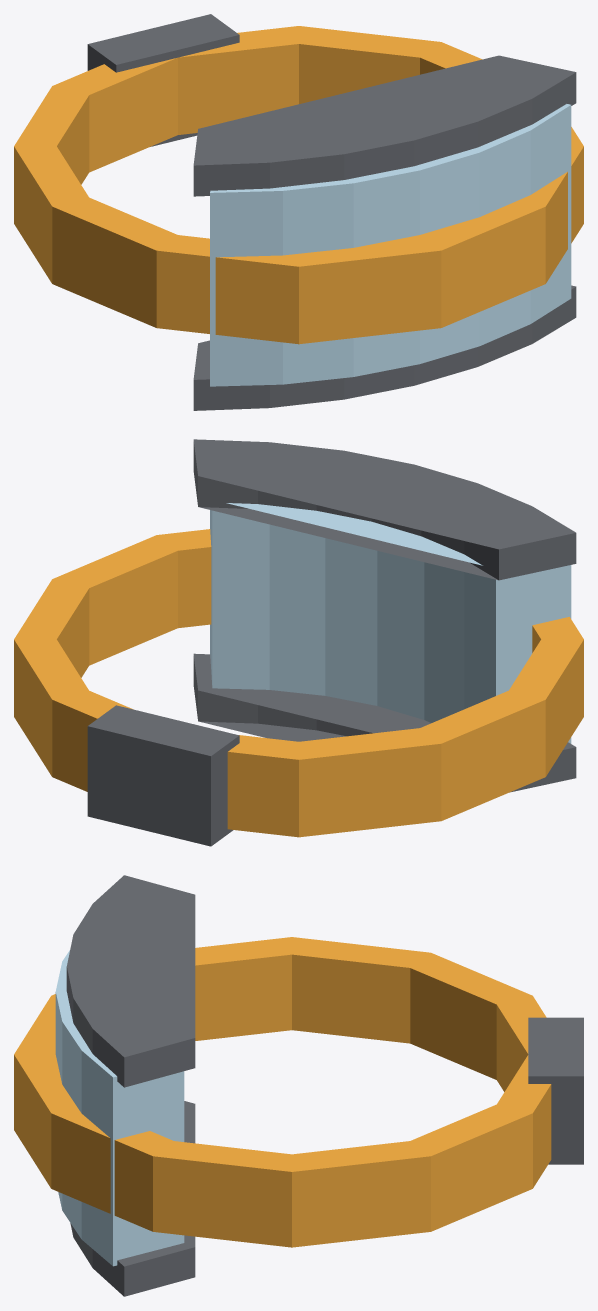
File: ski_goggles_source.glb
The picture shows the model from 3 angles, top to bottom: view 1: azimuth 30°, elevation 25°; view 2: azimuth 150°, elevation 25°; view 3: azimuth 270°, elevation 25°; orthographic projection. The views are drawn at different scales.
Parts seen in each view (by area): view 1: ski-goggles; view 2: ski-goggles; view 3: ski-goggles.
Boxes of the visible parts, x1,y1,x2,y2 form: ski-goggles: (14,14,583,410); ski-goggles: (14,439,583,846); ski-goggles: (14,875,583,1296).
Size of the model in its own units: 0.2 by 0.095 by 0.205.
